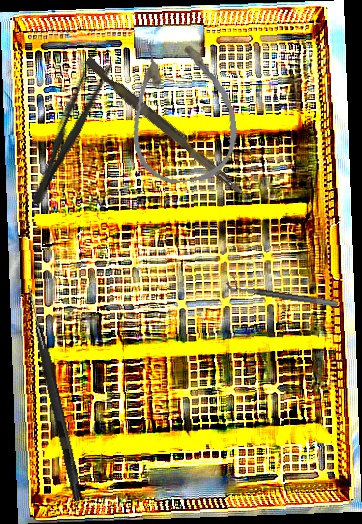Cannula: (121, 33, 243, 188)
Dressing Forceps: (22, 42, 119, 210)
Fixation Ring: (225, 274, 340, 308)
Hook Surgical: (20, 284, 87, 502)
Pusher: (80, 56, 254, 200)
